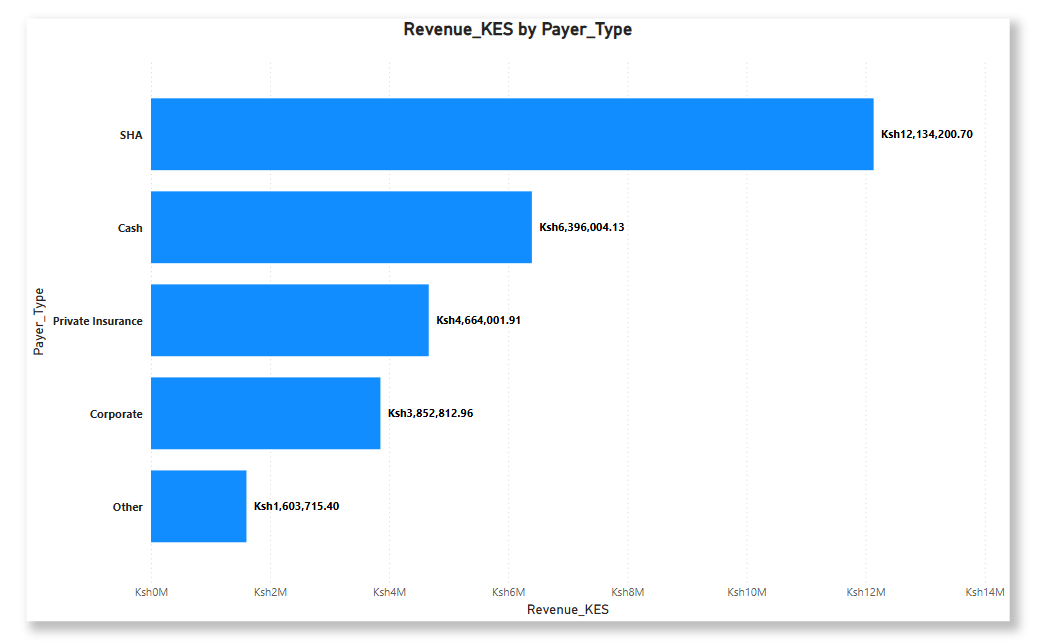

What the dashboard file says about the page in this screenshot:
{"tool":"powerbi","page":{"name":"Page 4","canvas":[1280,720],"ordinal":5},"visuals":[{"type":"clusteredBarChart","title":"Revenue_KES by Payer_Type","fields":{"Category":["Hospital_Data.Payer_Type"],"Y":["Sum(Hospital_Data.Revenue_KES)"]},"box":[108.5,34,1061.1,650.3],"z":0}]}

Visuals, with their boxes in screenshot pixels (x1, y1, x2, y2):
"Revenue_KES by Payer_Type" clusteredBarChart: 146, 97, 1010, 626
